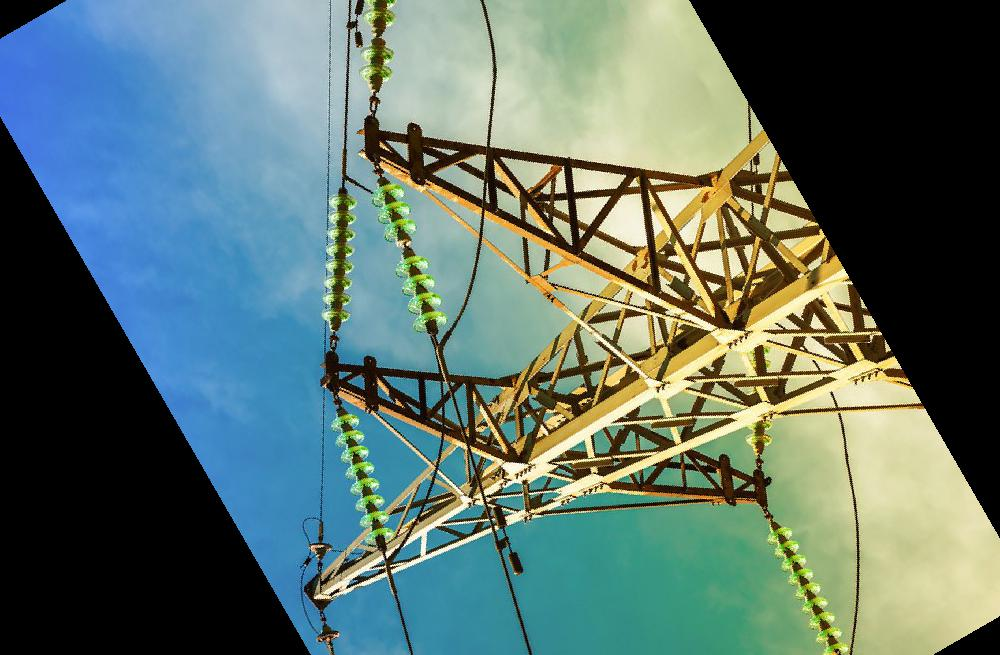insulator: (367, 181, 451, 336), (763, 522, 853, 655), (327, 410, 398, 548), (319, 191, 359, 327), (356, 1, 403, 91), (743, 417, 776, 453)
insulator_stringdrop: (381, 215, 432, 280), (358, 6, 399, 66)
